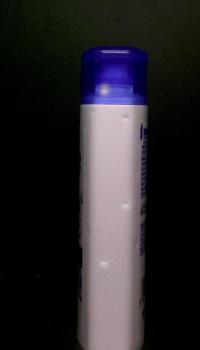dent_marginal: (110, 108, 136, 130), (91, 255, 111, 277), (114, 196, 135, 216)
